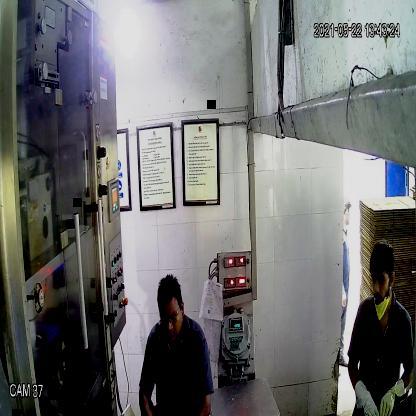goggles: (157, 308, 182, 330)
no_goggles: (370, 270, 392, 288)
